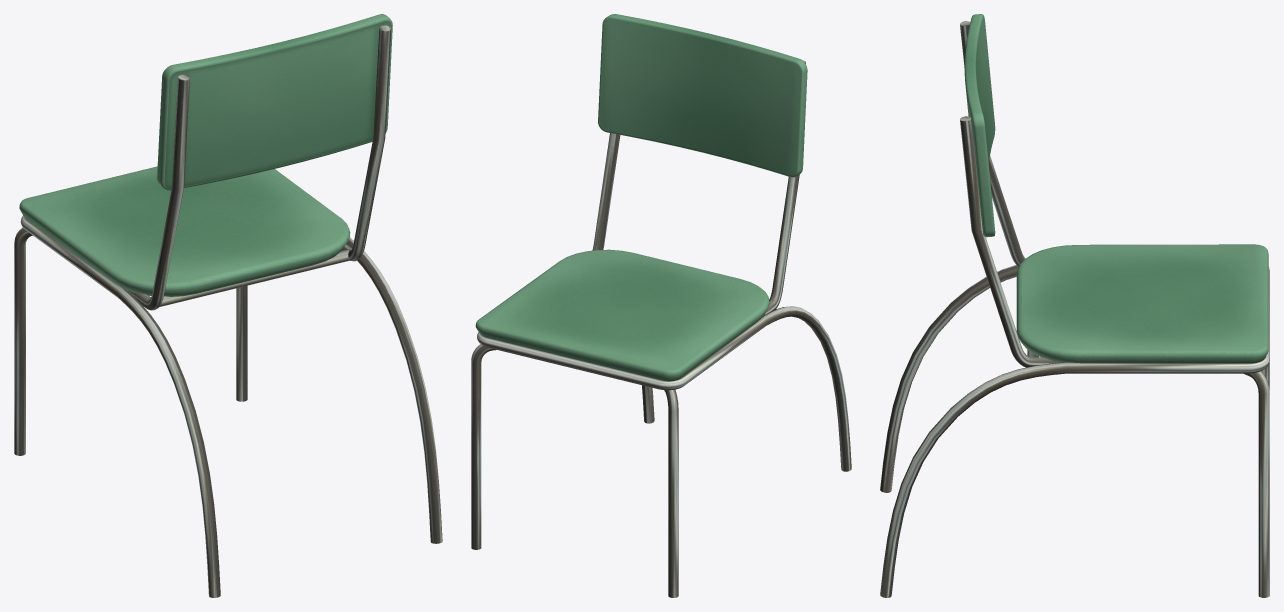
Rendered from chair_01.obj.
3 renders of one model, left to right at view 1: azimuth 30°, elevation 25°; view 2: azimuth 150°, elevation 25°; view 3: azimuth 270°, elevation 25°, orthographic. The views are drawn at different scales.
Parts seen in each view (by area): view 1: chair_01; view 2: chair_01; view 3: chair_01.
Boxes of the visible parts, x1,y1,x2,y2 form: chair_01: (14, 14, 442, 597); chair_01: (471, 14, 851, 597); chair_01: (880, 14, 1269, 597).
Size of the model in its own units: 4.5 by 9.15 by 6.74.
Materials: 1 (1 with a texture image).
